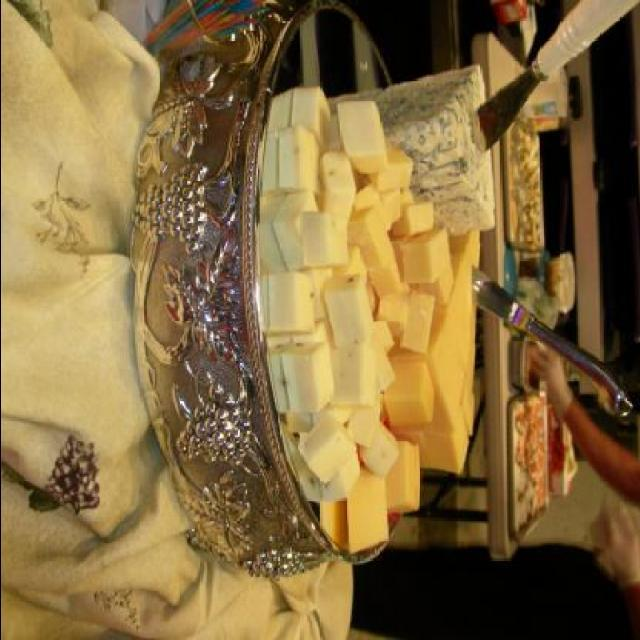Cheese: (267, 85, 401, 503), (346, 230, 482, 558), (374, 62, 496, 233)
